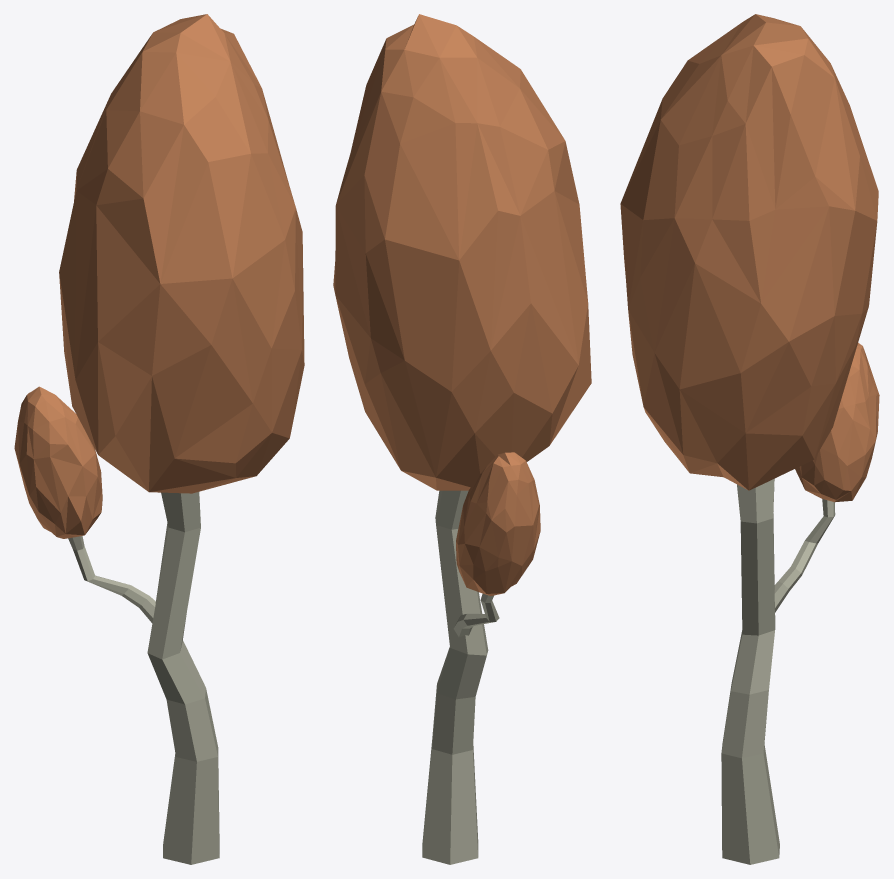
File: tree_lakeside.fbx
The picture shows the model from 3 angles, left to right: view 1: azimuth 30°, elevation 25°; view 2: azimuth 150°, elevation 25°; view 3: azimuth 270°, elevation 25°; orthographic projection.
Visible parts, largest first — view 1: pPlatonic41; view 2: pPlatonic41; view 3: pPlatonic41.
Boxes of the visible parts, x1,y1,x2,y2 form: pPlatonic41: (14,14,304,864); pPlatonic41: (333,14,591,864); pPlatonic41: (620,14,879,864).
Size of the model in its own units: 1.4 by 4.95 by 1.38.
